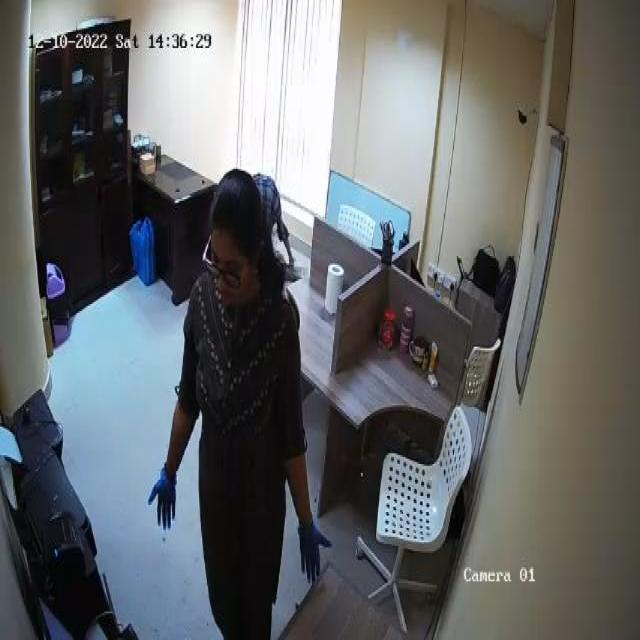gloved_hand: (296, 521, 332, 587), (148, 464, 179, 533)
